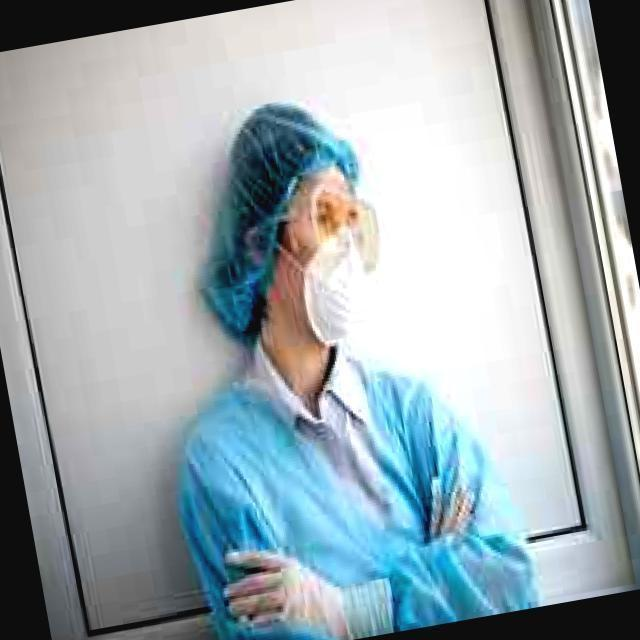apron: (224, 530, 358, 640)
